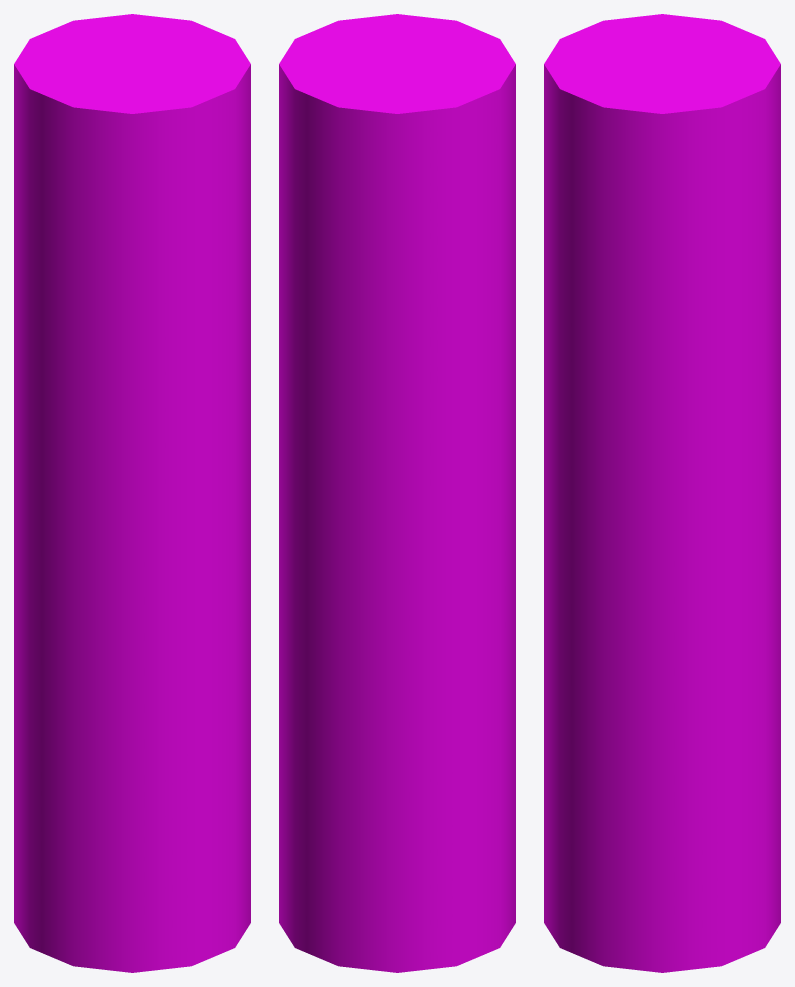
File: canopy-olive.collision.glb
3 renders of one model, left to right at view 1: azimuth 30°, elevation 25°; view 2: azimuth 150°, elevation 25°; view 3: azimuth 270°, elevation 25°, orthographic.
Parts seen in each view (by area): view 1: canopy_olive_collision_collision; view 2: canopy_olive_collision_collision; view 3: canopy_olive_collision_collision.
Part boxes in pixels (<box>): canopy_olive_collision_collision: <box>14,14,250,972</box>; canopy_olive_collision_collision: <box>279,14,515,972</box>; canopy_olive_collision_collision: <box>544,14,780,972</box>.
Bounding box in the file's own units: 0.6 × 2.4 × 0.6.
